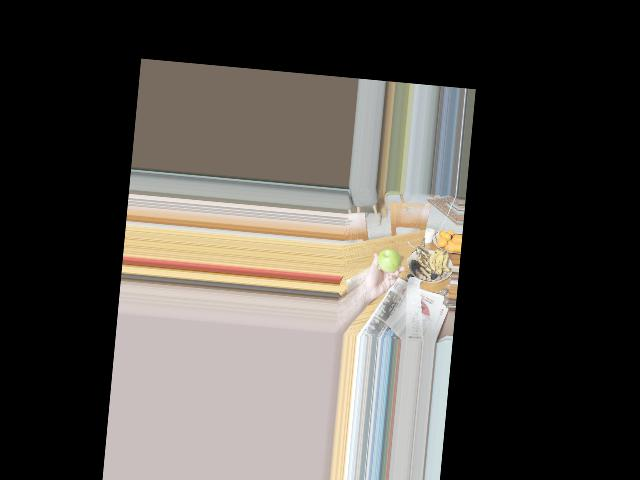apple: (375, 245, 403, 275)
